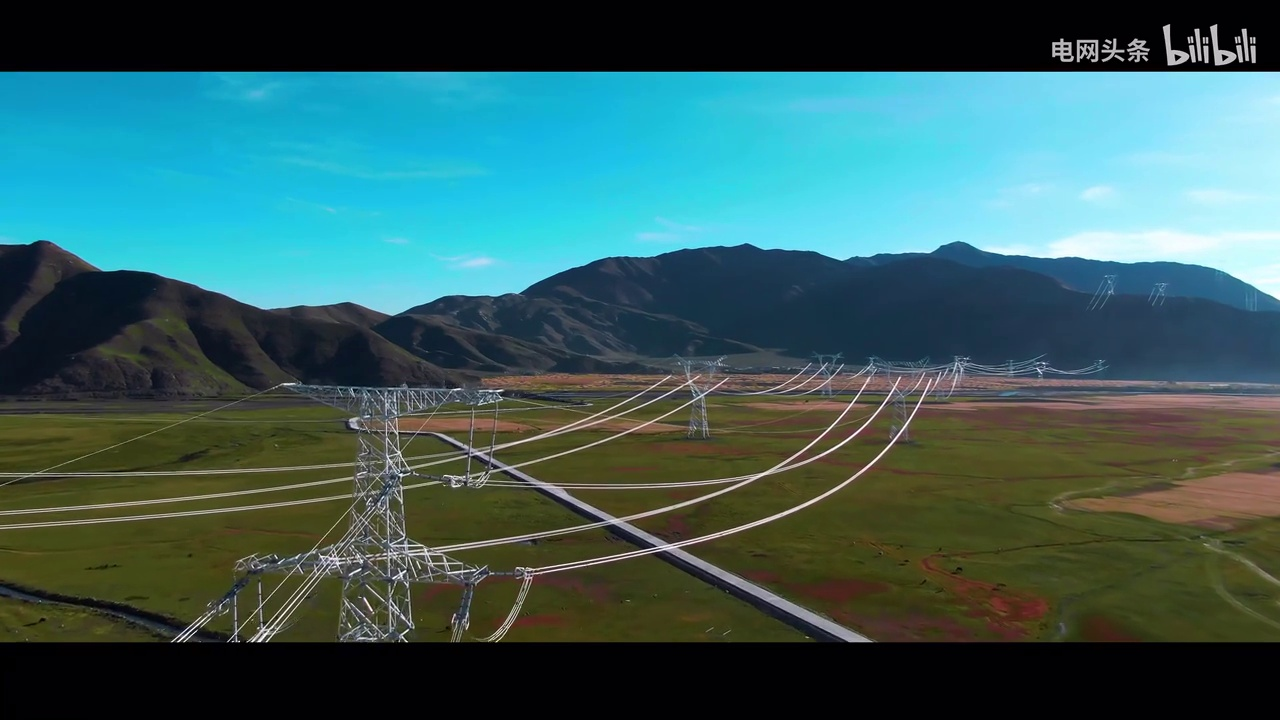tower_body: (239, 363, 517, 638)
tower_head: (278, 379, 504, 428)
